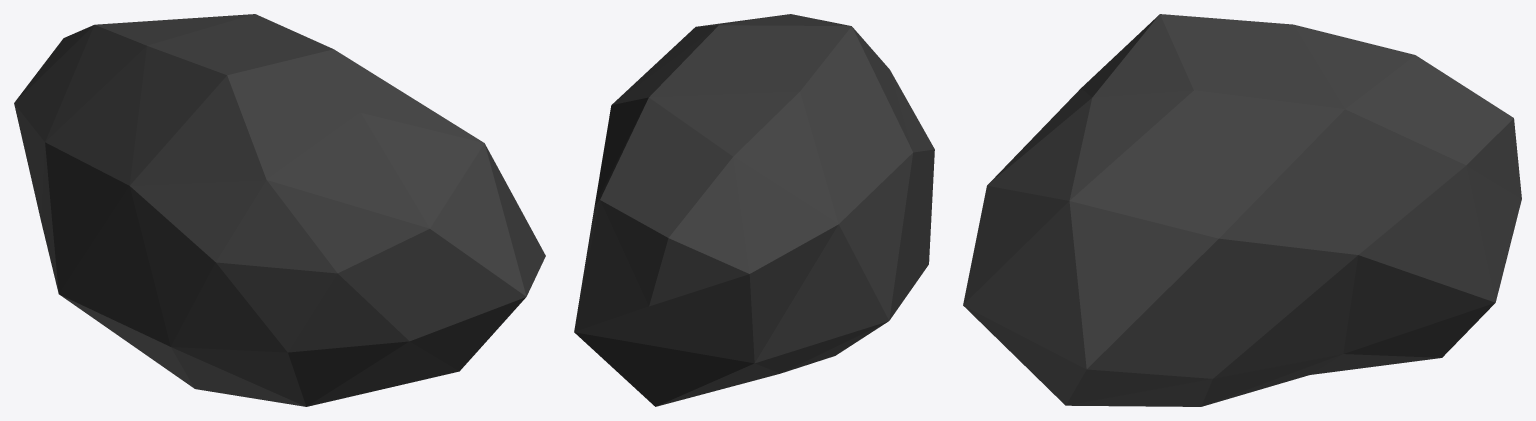
The model's file is Dorsal_sesamoid_2.glb.
3 views of the same model, side by side, from view 1: azimuth 30°, elevation 25°; view 2: azimuth 150°, elevation 25°; view 3: azimuth 270°, elevation 25° (orthographic). The views are drawn at different scales.
Visible parts, largest first — view 1: Dorsal_sesamoid_2; view 2: Dorsal_sesamoid_2; view 3: Dorsal_sesamoid_2.
Part boxes in pixels (bbox=[...]): Dorsal_sesamoid_2: bbox=[14, 14, 545, 406]; Dorsal_sesamoid_2: bbox=[574, 14, 934, 406]; Dorsal_sesamoid_2: bbox=[963, 14, 1521, 406].
Bounding box in the file's own units: 0.0332 × 0.0276 × 0.0421.
1 material, 1 textured.
